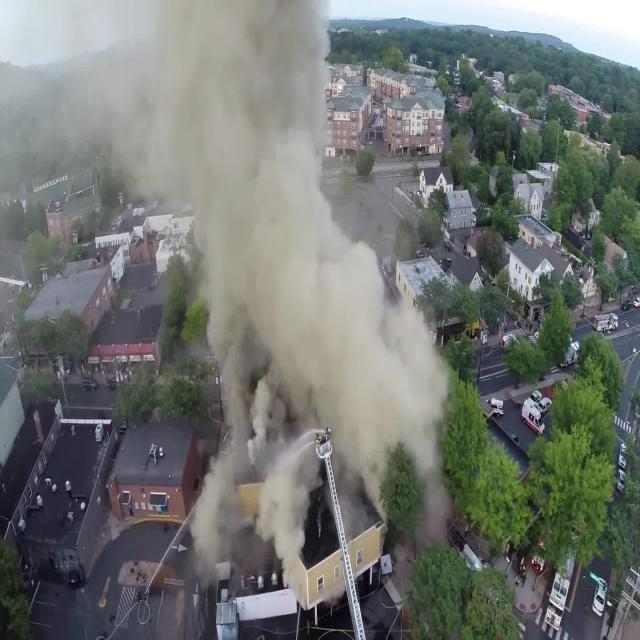Smoke: (152, 2, 462, 490)
